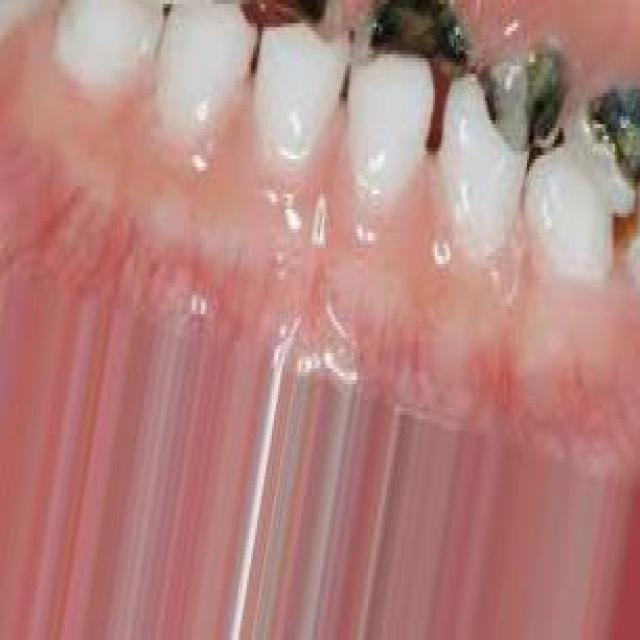caries: (475, 21, 570, 169), (569, 51, 640, 221), (350, 0, 464, 105)
